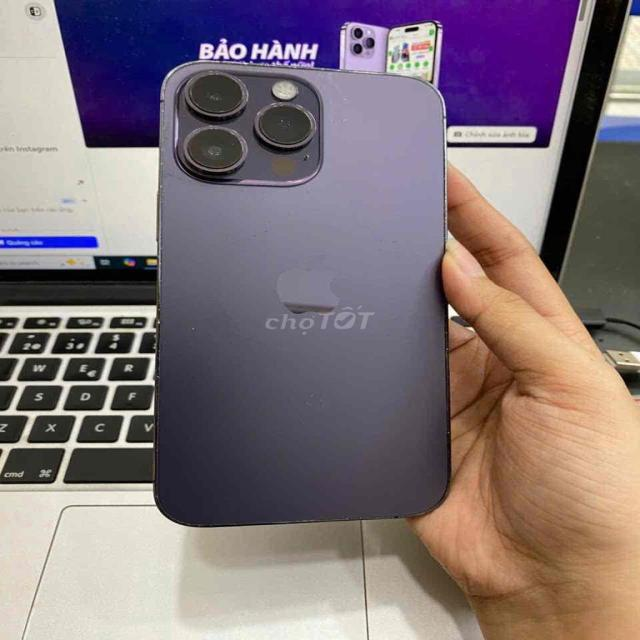gen_14: (142, 54, 468, 530)
